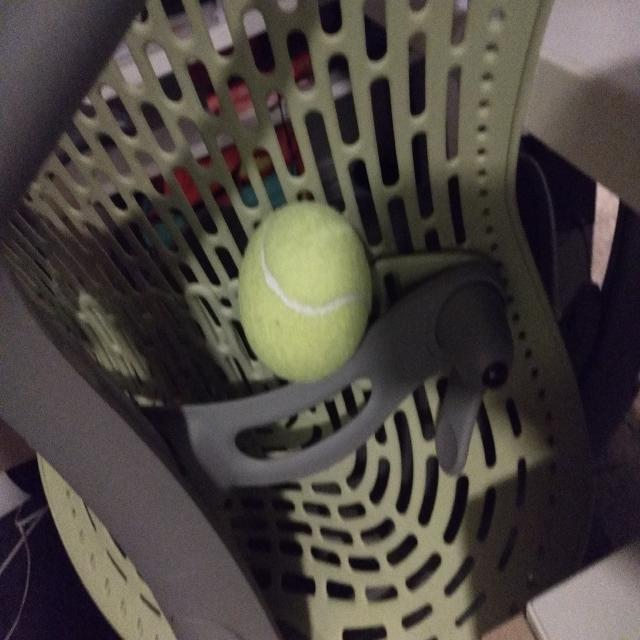Tennis-Ball: (238, 201, 374, 385)
